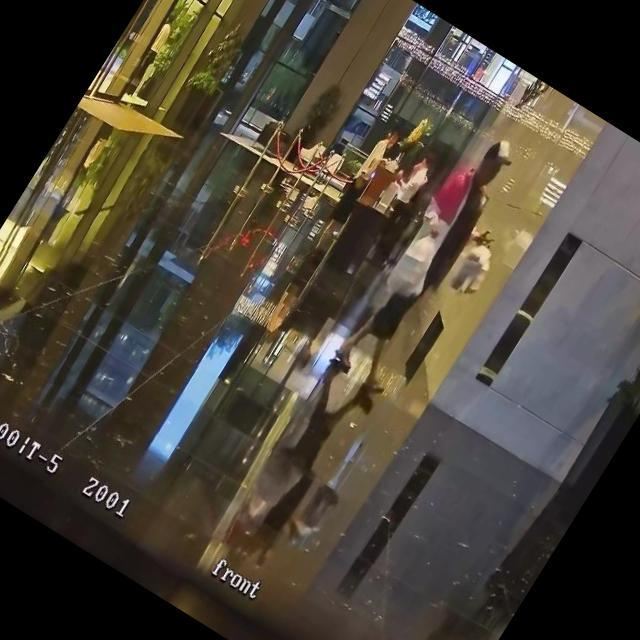person: (325, 123, 527, 396), (308, 123, 402, 259), (120, 13, 180, 99), (386, 140, 442, 207)
